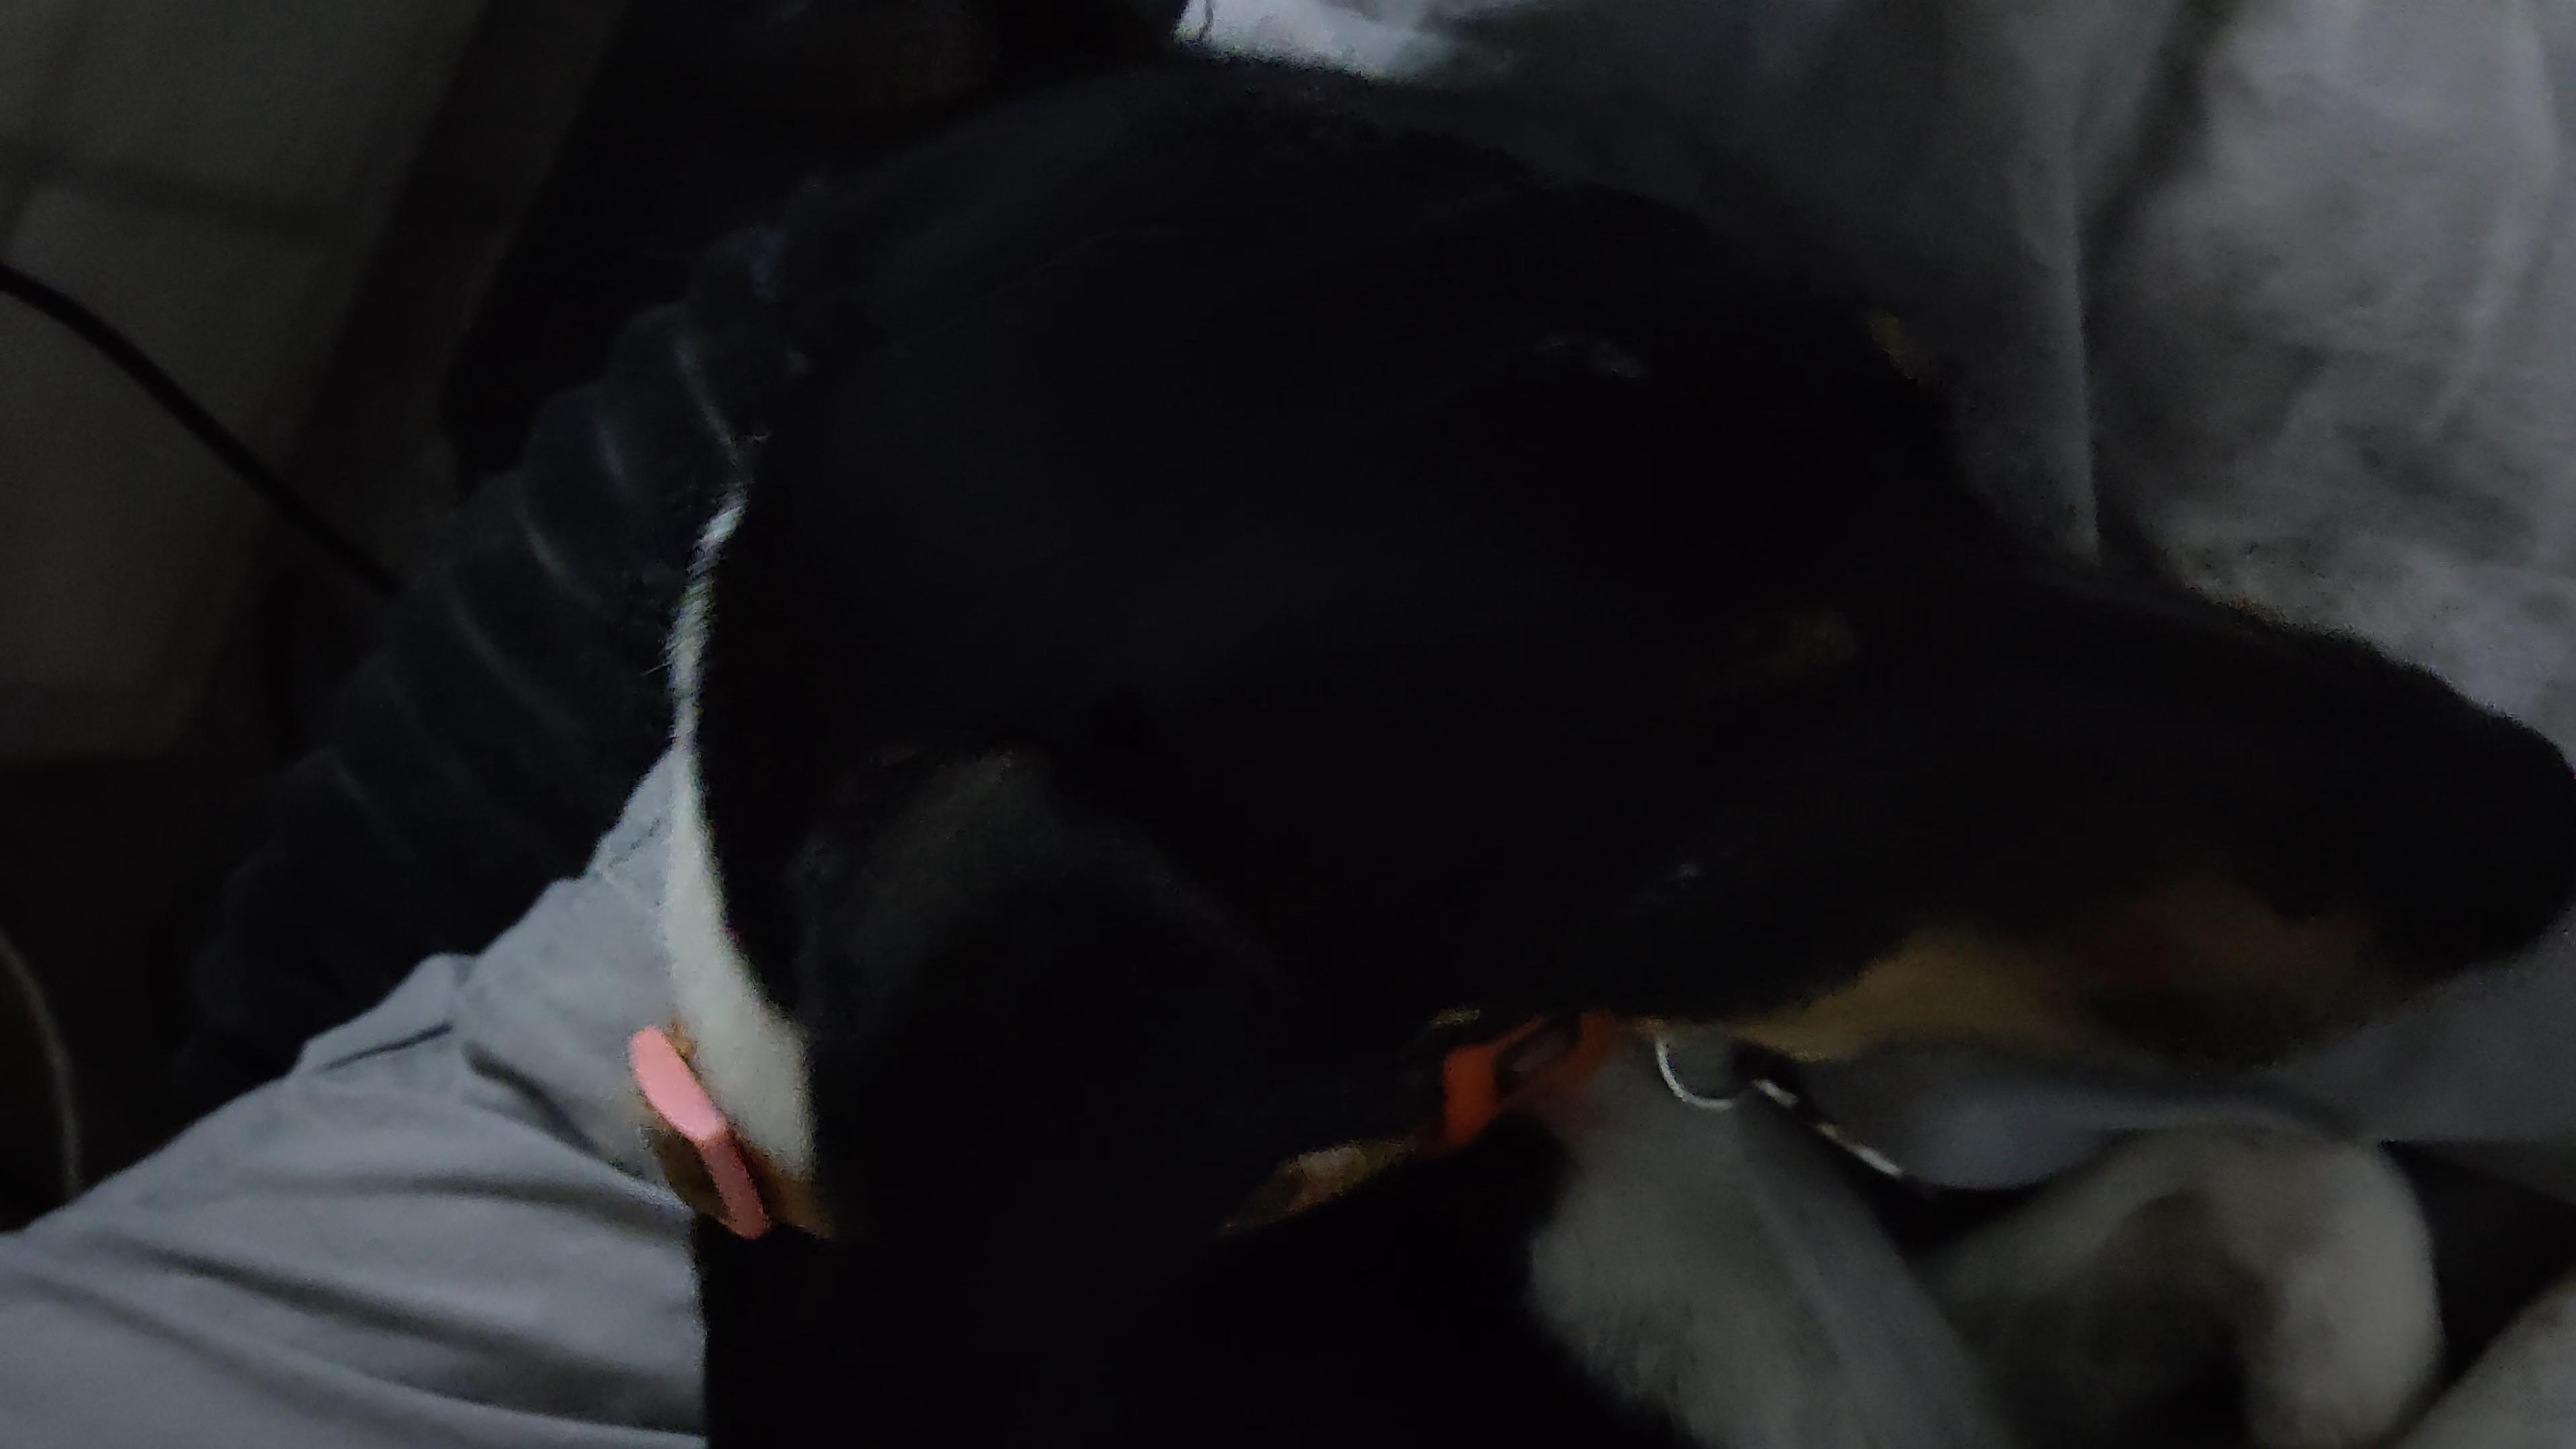Dog: (589, 0, 2576, 1449)
